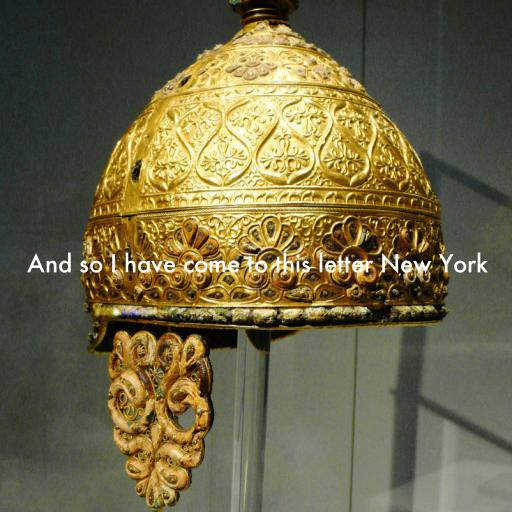Futura: (26, 252, 488, 274)
